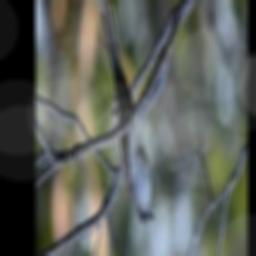Cuckoo: (99, 0, 156, 227)
